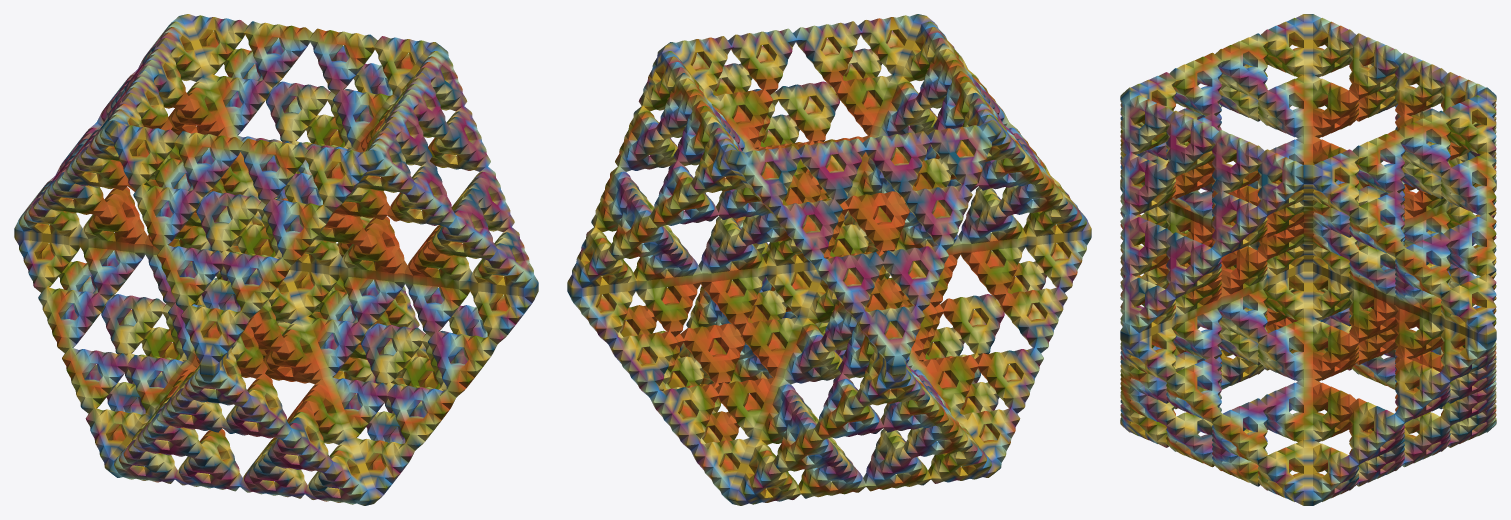
Rendered from 4DCube.fbx.
The picture shows the model from 3 angles, left to right: view 1: azimuth 30°, elevation 25°; view 2: azimuth 150°, elevation 25°; view 3: azimuth 270°, elevation 25°; orthographic projection. The views are drawn at different scales.
Parts seen in each view (by area): view 1: 4DCube; view 2: 4DCube; view 3: 4DCube.
Boxes of the visible parts, <box> form: 4DCube: <box>14,14,538,505</box>; 4DCube: <box>567,14,1091,505</box>; 4DCube: <box>1120,14,1496,505</box>.
Size of the model in its own units: 205 by 205 by 205.
